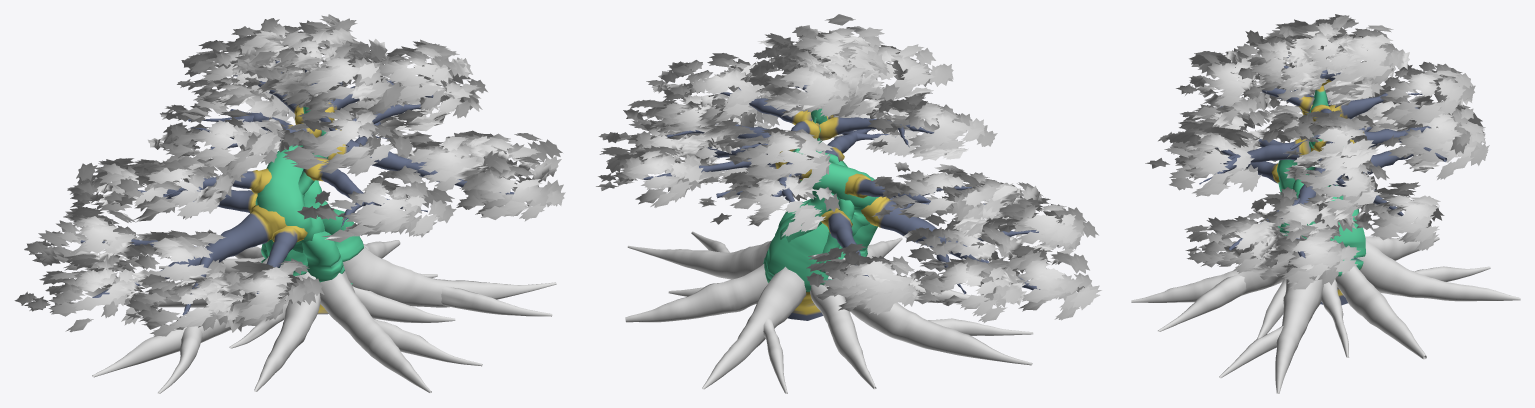
File: Bonsai_Tree.fbx
3 renders of one model, left to right at view 1: azimuth 30°, elevation 25°; view 2: azimuth 150°, elevation 25°; view 3: azimuth 270°, elevation 25°, orthographic. The views are drawn at different scales.
Visible parts, largest first — view 1: Foliage, Roots, Trunk_Branches; view 2: Foliage, Roots, Trunk_Branches; view 3: Foliage, Roots, Trunk_Branches.
Boxes of the visible parts, x1,y1,x2,y2 form: Foliage: (14, 14, 565, 336); Roots: (92, 240, 556, 393); Trunk_Branches: (80, 60, 514, 315); Foliage: (596, 14, 1101, 322); Roots: (625, 231, 1033, 393); Trunk_Branches: (643, 85, 1040, 320); Foliage: (1145, 14, 1489, 289); Roots: (1131, 209, 1520, 393); Trunk_Branches: (1199, 55, 1446, 305).
Size of the model in its own units: 8.21 by 4.31 by 5.7.
